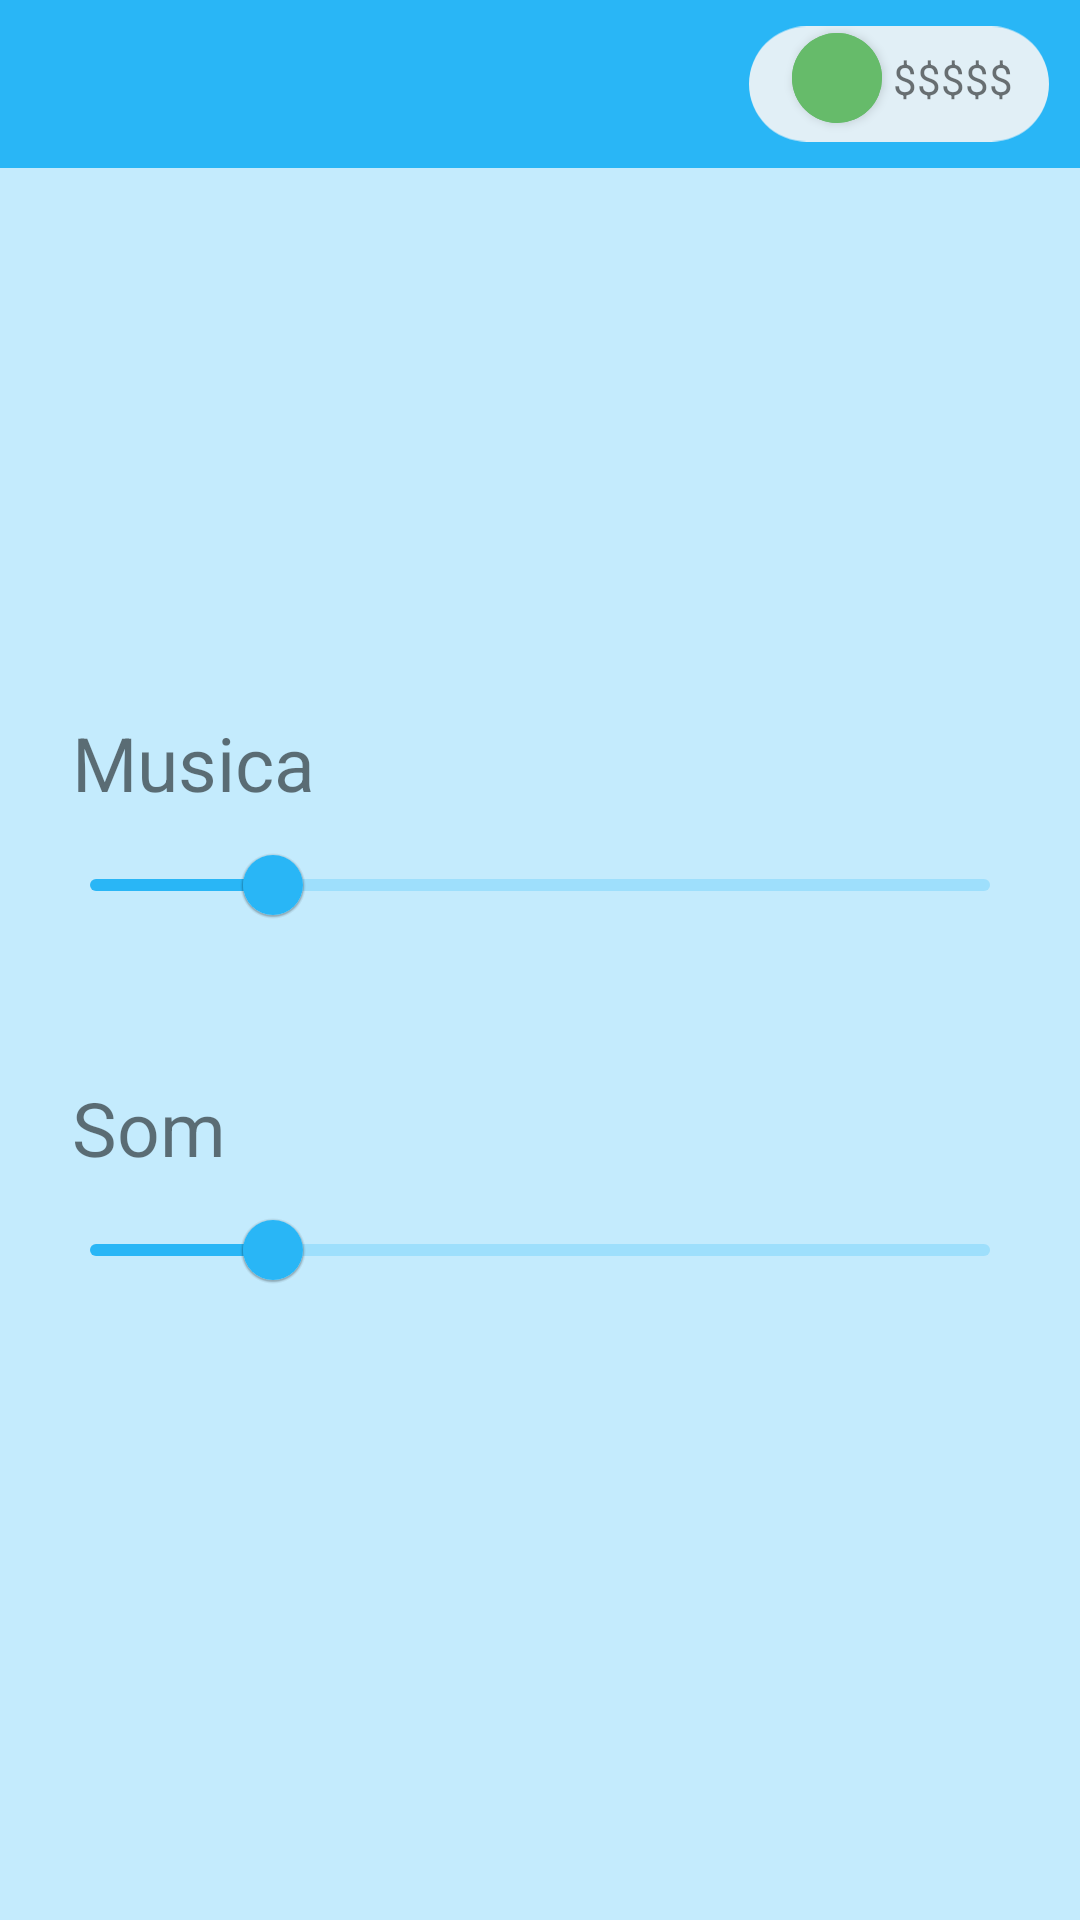

Point at icon controls on the screen. Image size 1080px×1920px, points as (x=x, y=y).
moneyfield: (x=899, y=84)
